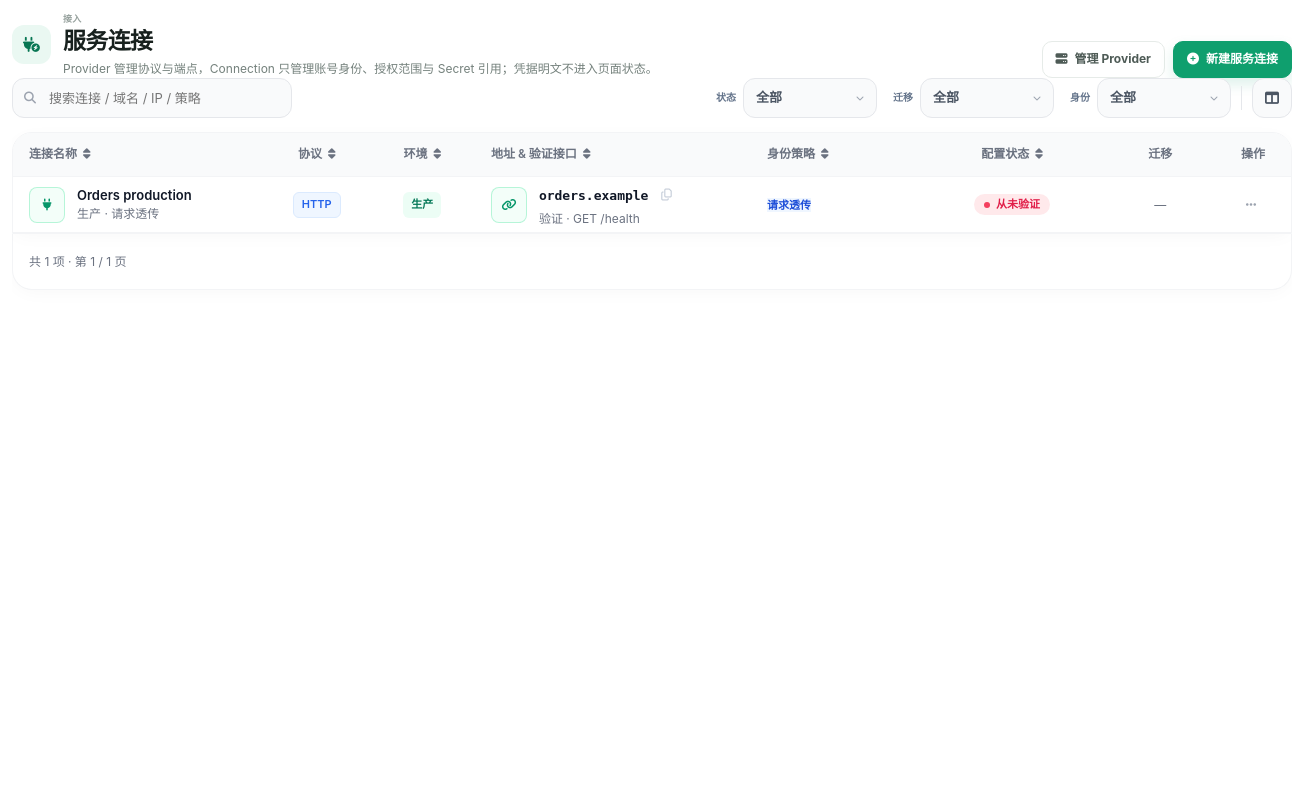
Test case: service connections v1 behavior › uses the v1 verification result and stable diagnostics
This screenshot has width=1304, height=812.
Click the button named "更多操作": [1251, 205] box [1233,187,1269,223]
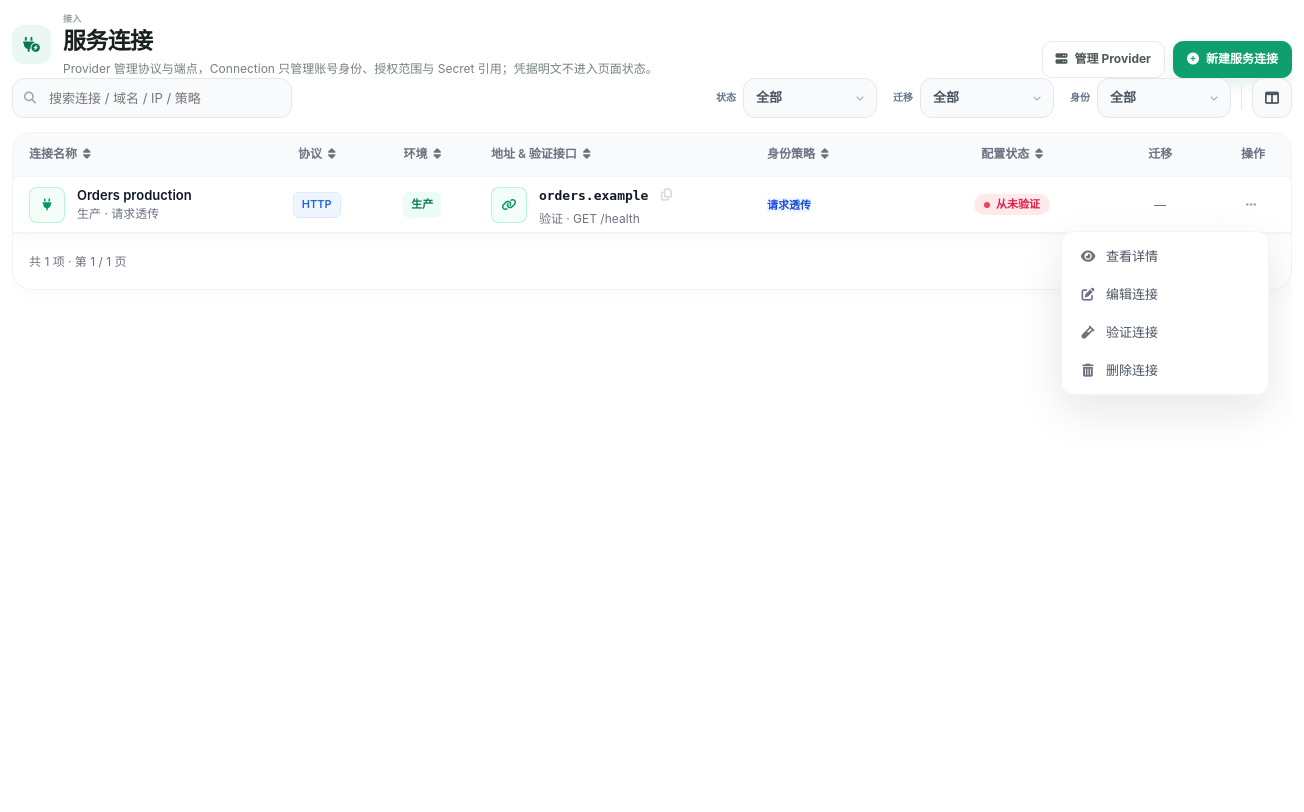
Click the menu item with aria-label "验证连接": [1165, 332] box [1068,314,1262,350]
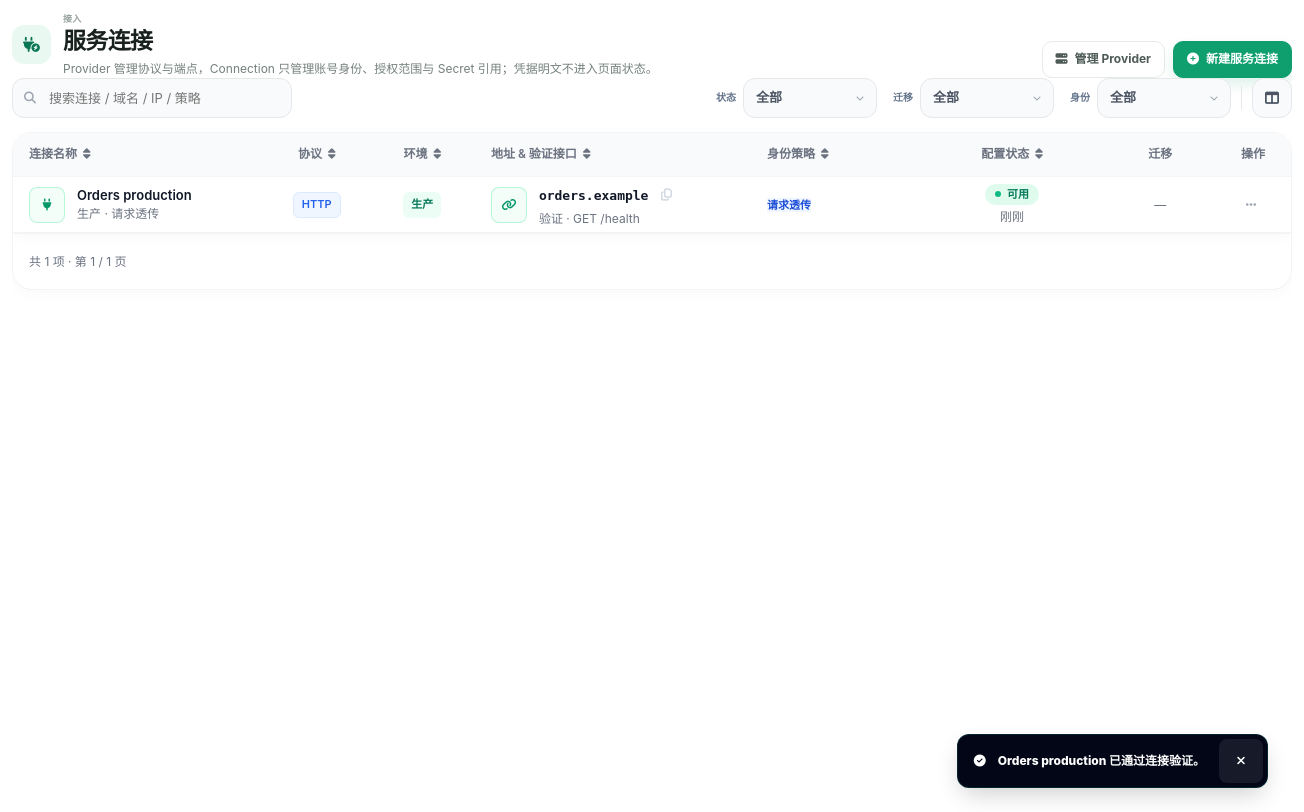
Check: the text "已通过连接验证" is shown, box [998,753,1205,768]
